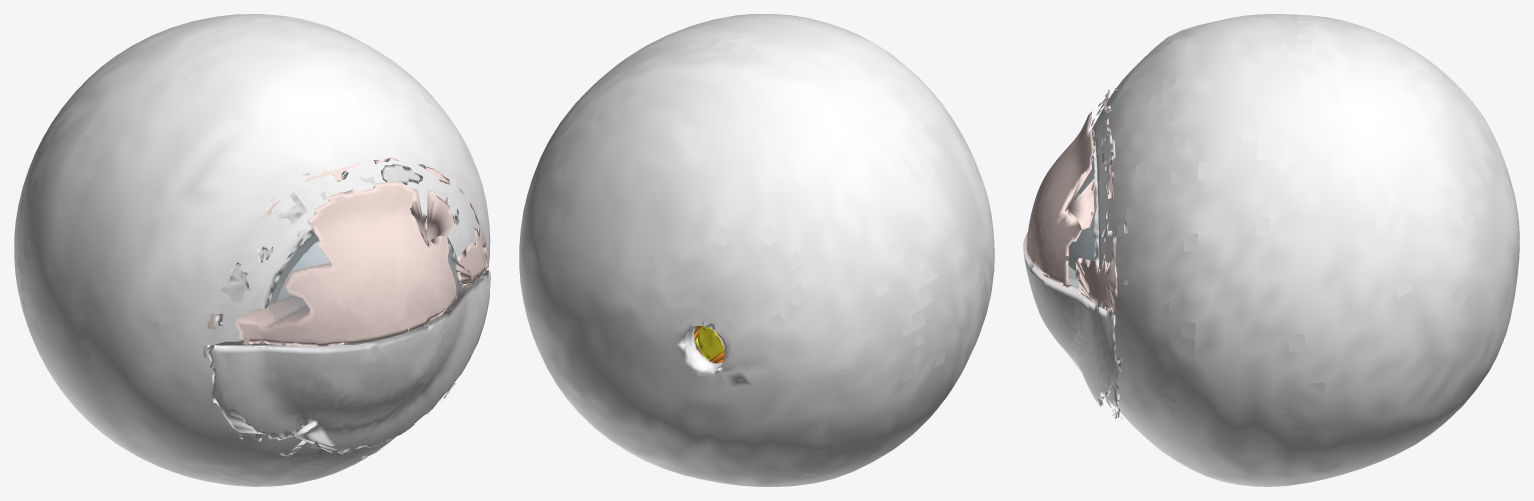
The model's file is 3d-vh-f-eye-l-100.fbx.
3 views of the same model, side by side, from view 1: azimuth 30°, elevation 25°; view 2: azimuth 150°, elevation 25°; view 3: azimuth 270°, elevation 25° (orthographic).
Parts seen in each view (by area): view 1: VH_F_sclera_L, VH_F_palpebral_conjunctiva_of_left_lower_eyelid, VH_F_palpebral_conjunctiva_of_left_upper_eyelid, VH_F_bulbar_conjunctiva_L, VH_F_cornea_L, VH_F_corneo_scleral_junction_L, VH_F_aqueous_humor_L; view 2: VH_F_sclera_L, VH_F_optic_disc_L; view 3: VH_F_sclera_L, VH_F_palpebral_conjunctiva_of_left_upper_eyelid, VH_F_palpebral_conjunctiva_of_left_lower_eyelid, VH_F_cornea_L, VH_F_bulbar_conjunctiva_L, VH_F_aqueous_humor_L, VH_F_corneo_scleral_junction_L.
Part boxes in pixels (bbox=[...]): VH_F_sclera_L: bbox=[14, 14, 490, 486]; VH_F_palpebral_conjunctiva_of_left_lower_eyelid: bbox=[207, 267, 490, 463]; VH_F_palpebral_conjunctiva_of_left_upper_eyelid: bbox=[207, 157, 487, 346]; VH_F_bulbar_conjunctiva_L: bbox=[203, 164, 464, 459]; VH_F_cornea_L: bbox=[266, 214, 458, 320]; VH_F_corneo_scleral_junction_L: bbox=[265, 212, 459, 309]; VH_F_aqueous_humor_L: bbox=[276, 241, 329, 301]; VH_F_sclera_L: bbox=[519, 14, 994, 486]; VH_F_optic_disc_L: bbox=[698, 326, 723, 359]; VH_F_sclera_L: bbox=[1091, 14, 1519, 486]; VH_F_palpebral_conjunctiva_of_left_upper_eyelid: bbox=[1026, 89, 1117, 312]; VH_F_palpebral_conjunctiva_of_left_lower_eyelid: bbox=[1023, 233, 1119, 418]; VH_F_cornea_L: bbox=[1068, 148, 1097, 288]; VH_F_bulbar_conjunctiva_L: bbox=[1091, 88, 1128, 419]; VH_F_aqueous_humor_L: bbox=[1068, 169, 1095, 270]; VH_F_corneo_scleral_junction_L: bbox=[1089, 130, 1098, 268].
Bounding box in the file's own units: 2.45 × 2.44 × 2.57.
